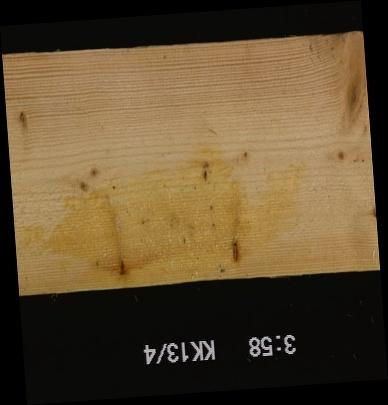small_knot: (326, 127, 371, 176), (371, 205, 375, 218)
